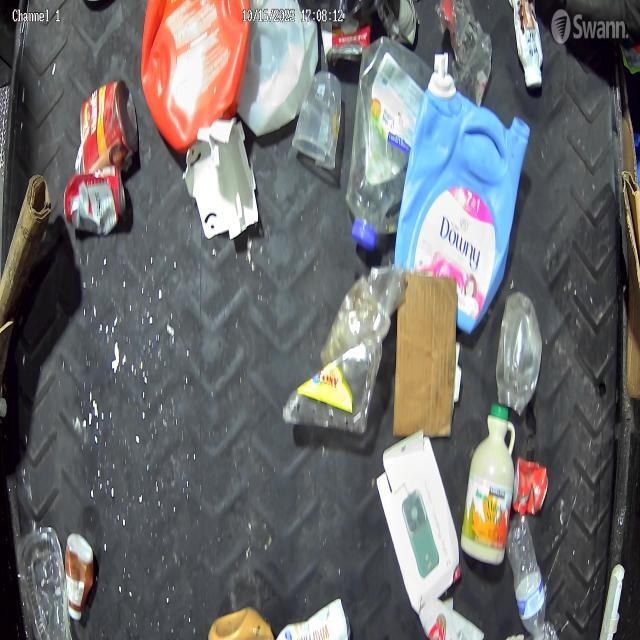can: (76, 80, 140, 164)
milk_jug: (247, 5, 320, 140)
non_white_jug: (398, 76, 530, 276), (140, 4, 244, 156)
plastic_bottle: (503, 511, 553, 640)
